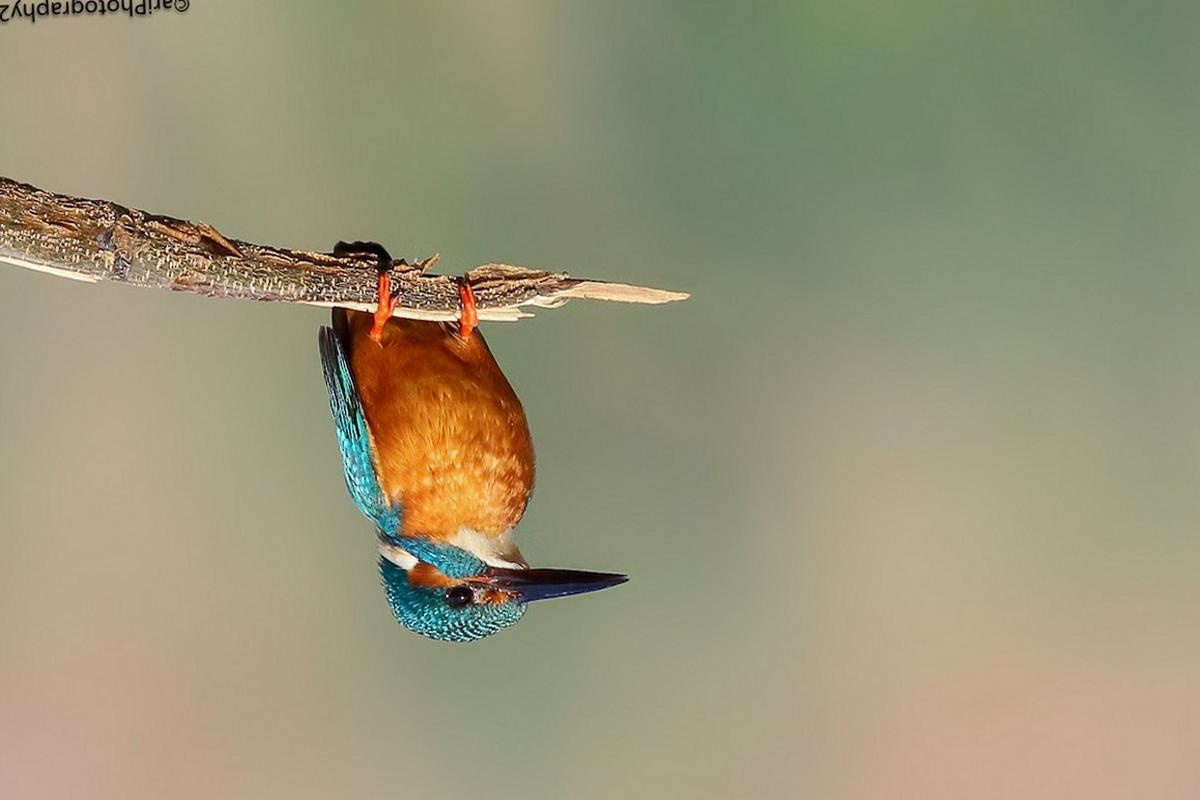kingfisher: (250, 210, 654, 668)
